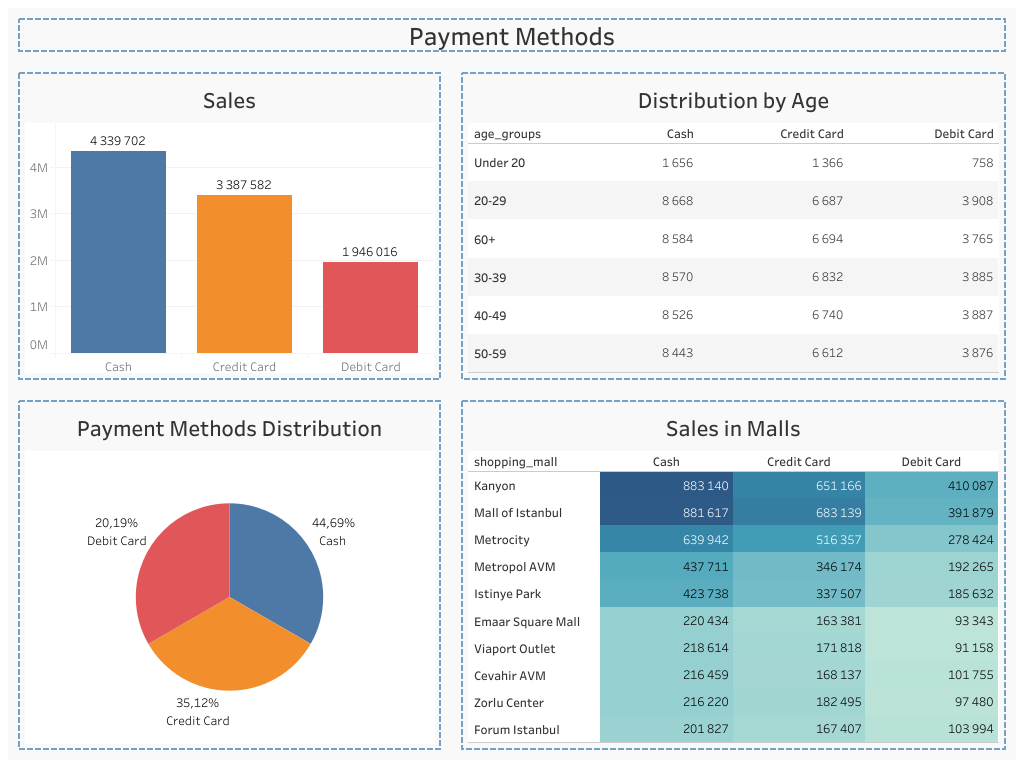

This screenshot's page, from the dashboard's own definition file:
{"tool":"tableau","page":{"name":"Payment Methods","canvas":[1024,768],"ordinal":3},"visuals":[{"type":"title","box":[8,8,1008,54]},{"type":"worksheet","title":"pay_method_sales","mark":"Automatic","rows":["Calculation_1055569032224863"],"cols":["payment_method"],"box":[8,62,442.5,328.4]},{"type":"worksheet","title":"pay_methods_age","mark":"Automatic","rows":["Calculation_1055569033293923"],"cols":["payment_method"],"box":[450.5,62,565.5,328.4]},{"type":"worksheet","title":"pay_methods_distribution","mark":"Pie","box":[8,390.4,442.5,369.6]},{"type":"worksheet","title":"pay_methods_malls","mark":"Square","rows":["shopping_mall"],"cols":["payment_method"],"box":[450.5,390.4,565.5,369.6]}]}

Visuals, with their boxes in screenshot pixels (x1, y1, x2, y2), scaled from the page's 1024x768 canvas onto the 1023x767 screenshot:
title: [left=8, top=8, right=1015, bottom=62]
"pay_method_sales" worksheet: [left=8, top=62, right=450, bottom=390]
"pay_methods_age" worksheet: [left=450, top=62, right=1015, bottom=390]
"pay_methods_distribution" worksheet (Pie marks): [left=8, top=390, right=450, bottom=759]
"pay_methods_malls" worksheet (Square marks): [left=450, top=390, right=1015, bottom=759]
